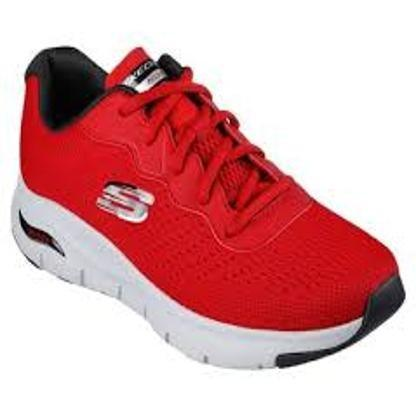not trash: (8, 42, 406, 381)
